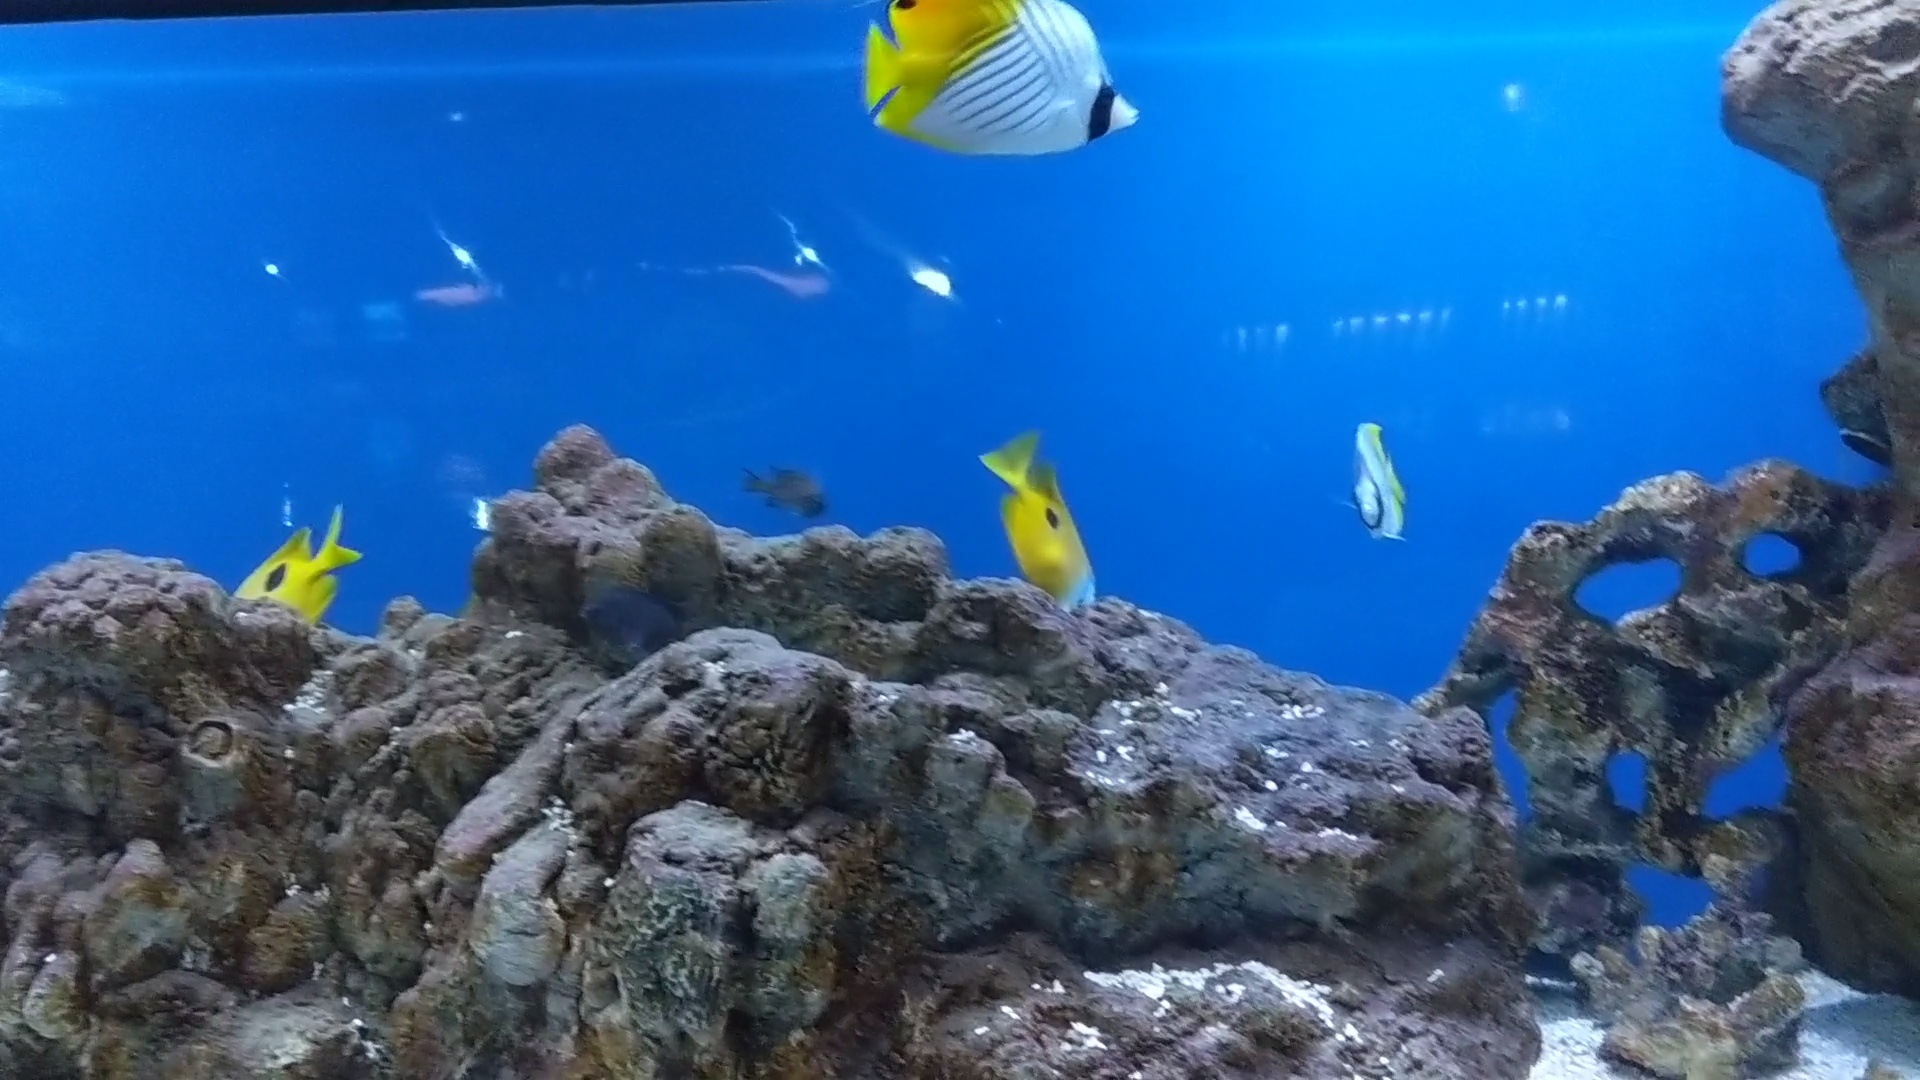butterflyfish: (855, 0, 1145, 146)
moorfish: (1315, 410, 1416, 549)
rabbitfish: (963, 406, 1122, 626), (239, 495, 367, 622)
